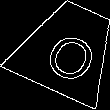O_NE: (35, 17, 101, 81)
